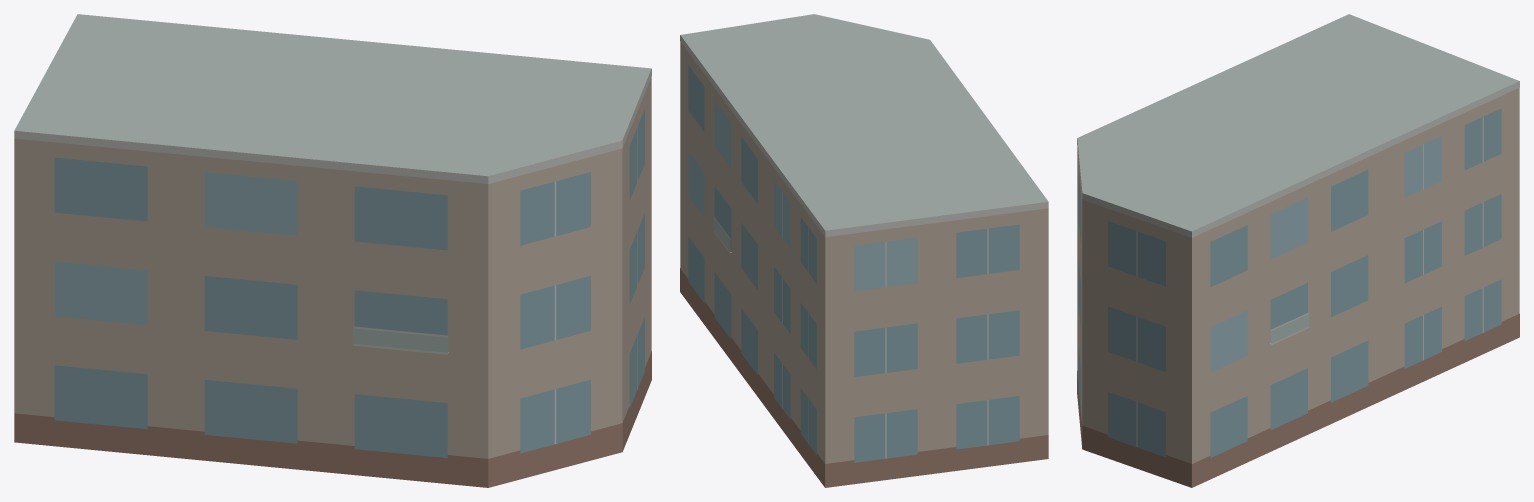
The model's file is survey-upis-32725956.glb.
3 renders of one model, left to right at view 1: azimuth 30°, elevation 25°; view 2: azimuth 150°, elevation 25°; view 3: azimuth 270°, elevation 25°, orthographic. The views are drawn at different scales.
Visible parts, largest first — view 1: survey-upis-32725956.tmp; view 2: survey-upis-32725956.tmp; view 3: survey-upis-32725956.tmp.
Boxes of the visible parts, x1,y1,x2,y2 form: survey-upis-32725956.tmp: (14, 14, 651, 487); survey-upis-32725956.tmp: (680, 14, 1048, 487); survey-upis-32725956.tmp: (1077, 14, 1519, 487).
Size of the model in its own units: 17.66 by 9.7 by 15.18.
